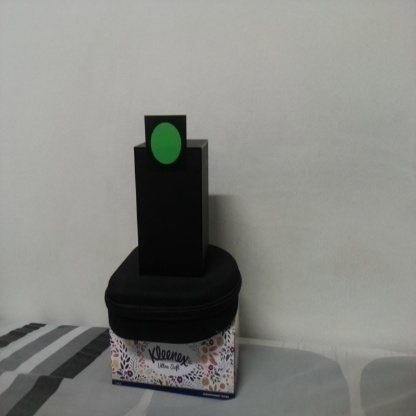id_5: (145, 116, 187, 174)
